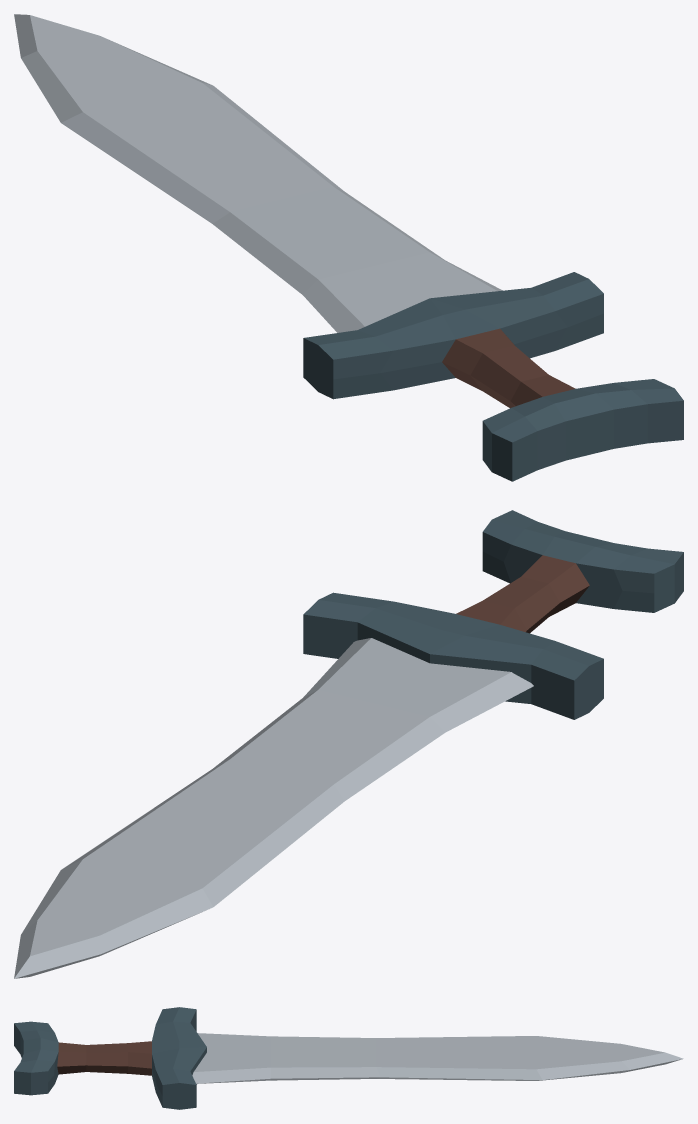
The model's file is Espada (2).FBX.
The picture shows the model from 3 angles, top to bottom: view 1: azimuth 30°, elevation 25°; view 2: azimuth 150°, elevation 25°; view 3: azimuth 270°, elevation 25°; orthographic projection. The views are drawn at different scales.
Parts seen in each view (by area): view 1: Espada; view 2: Espada; view 3: Espada.
Boxes of the visible parts, x1,y1,x2,y2 form: Espada: (14,14,683,481); Espada: (14,510,683,978); Espada: (14,1007,683,1109).
Bounding box in the file's own units: 47.36 × 8.64 × 177.
